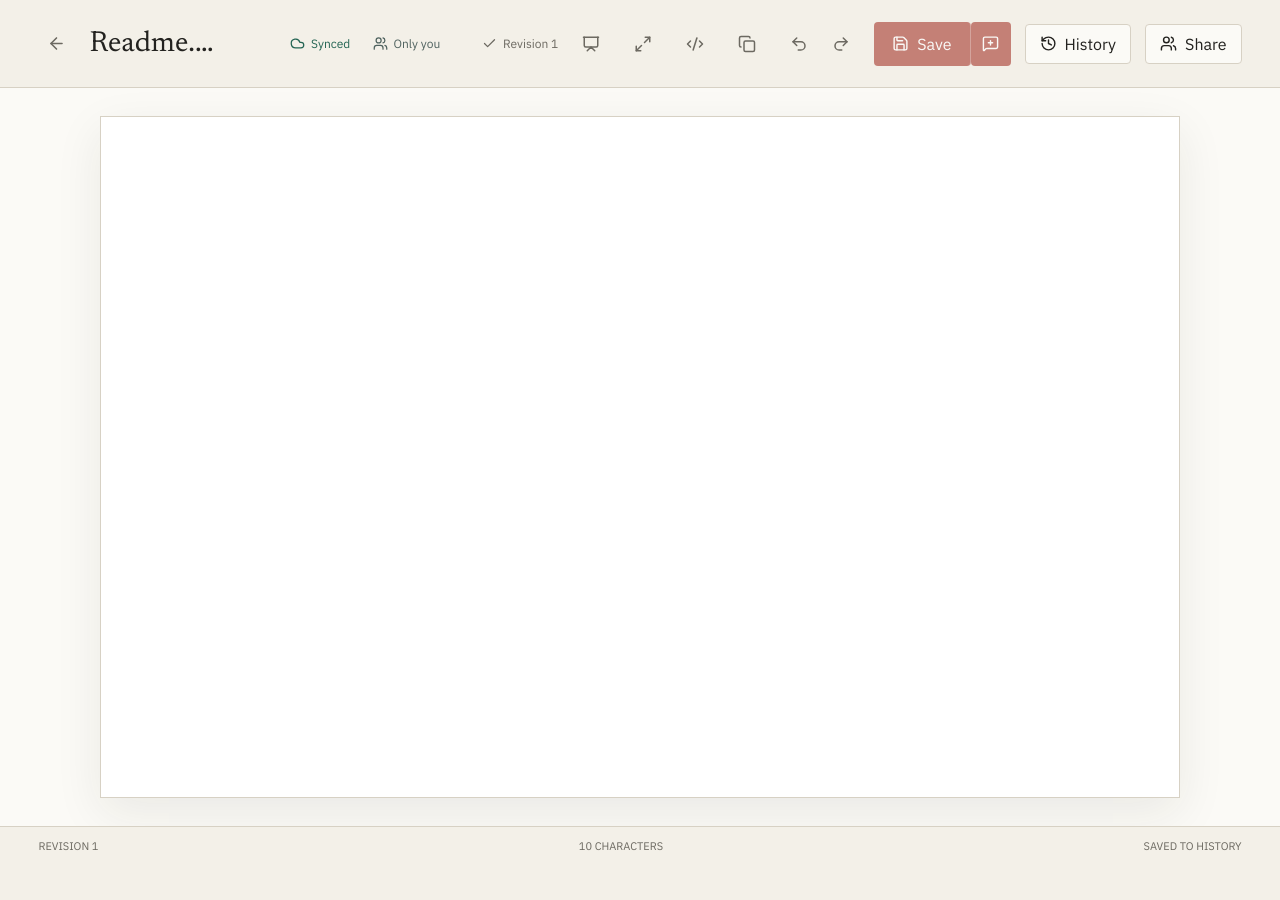
it: DocumentEditor › creates and revokes a read-only public link
Expected: the heading "Readme.md" is shown, [90,29,230,61]
Click the button "Share" at {"x": 1193, "y": 44}, box [1145,24,1242,64]
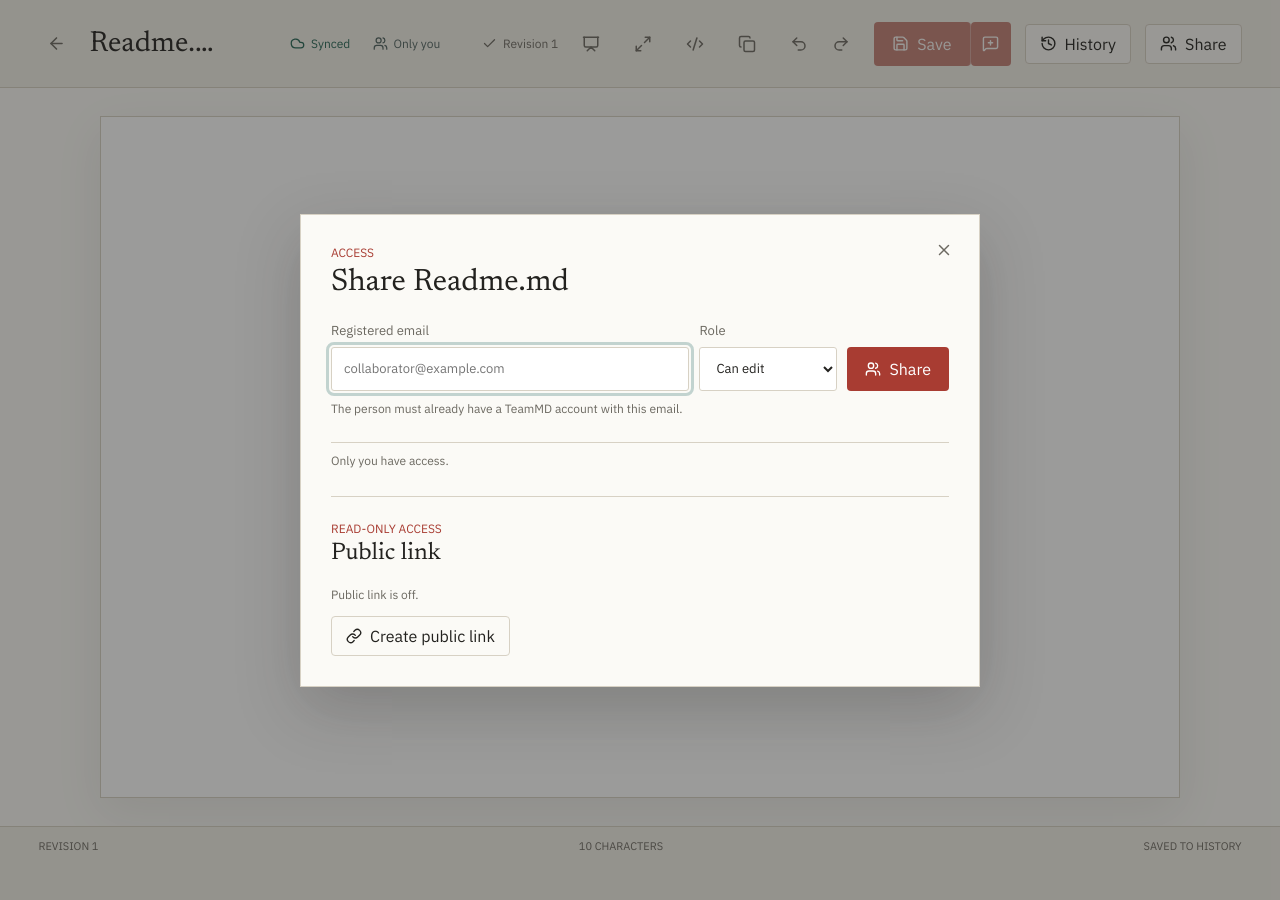
Click the button "Create public link" at {"x": 420, "y": 636}, box [331,616,510,656]
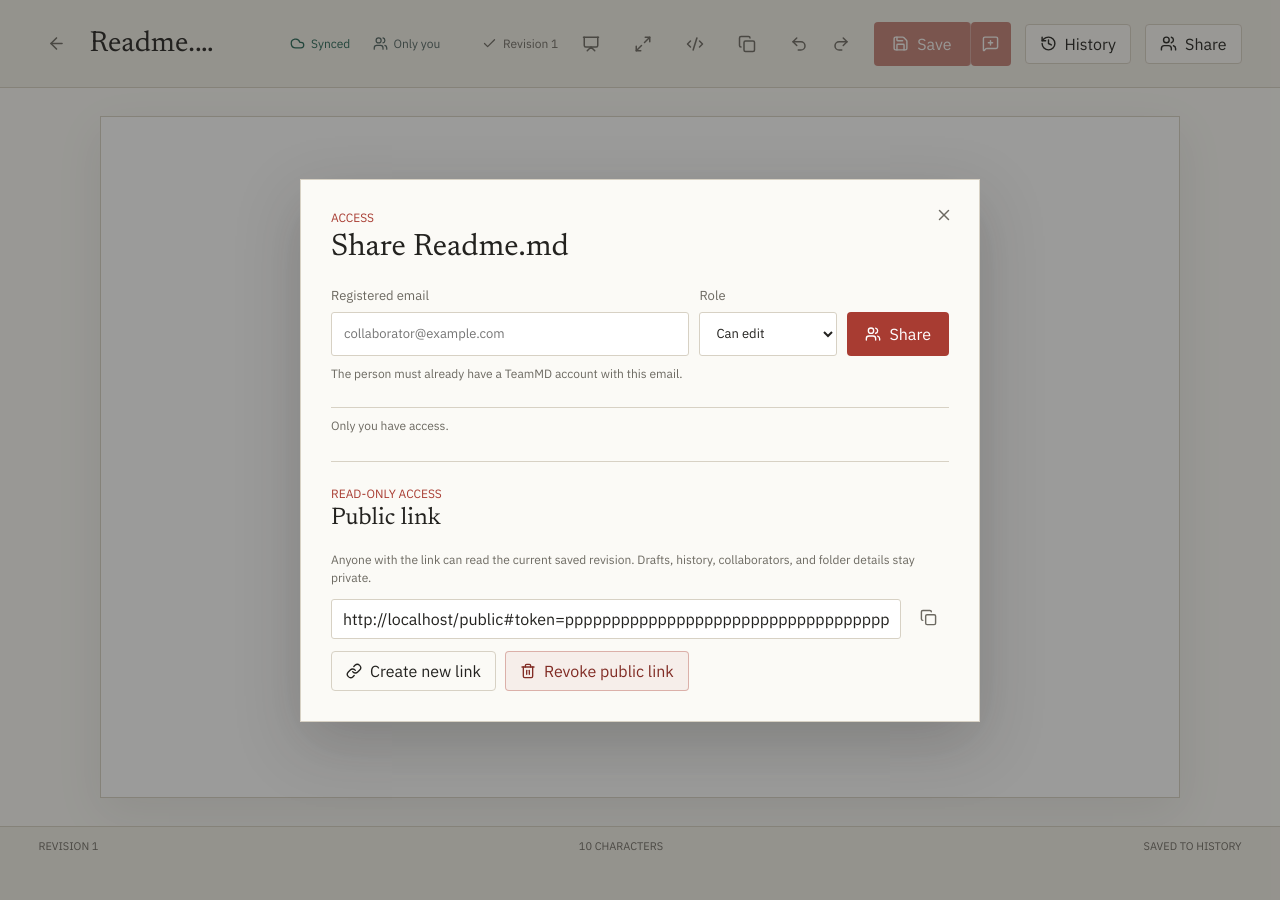
Click the button "Revoke public link" at {"x": 597, "y": 670}, box [505,650,689,690]
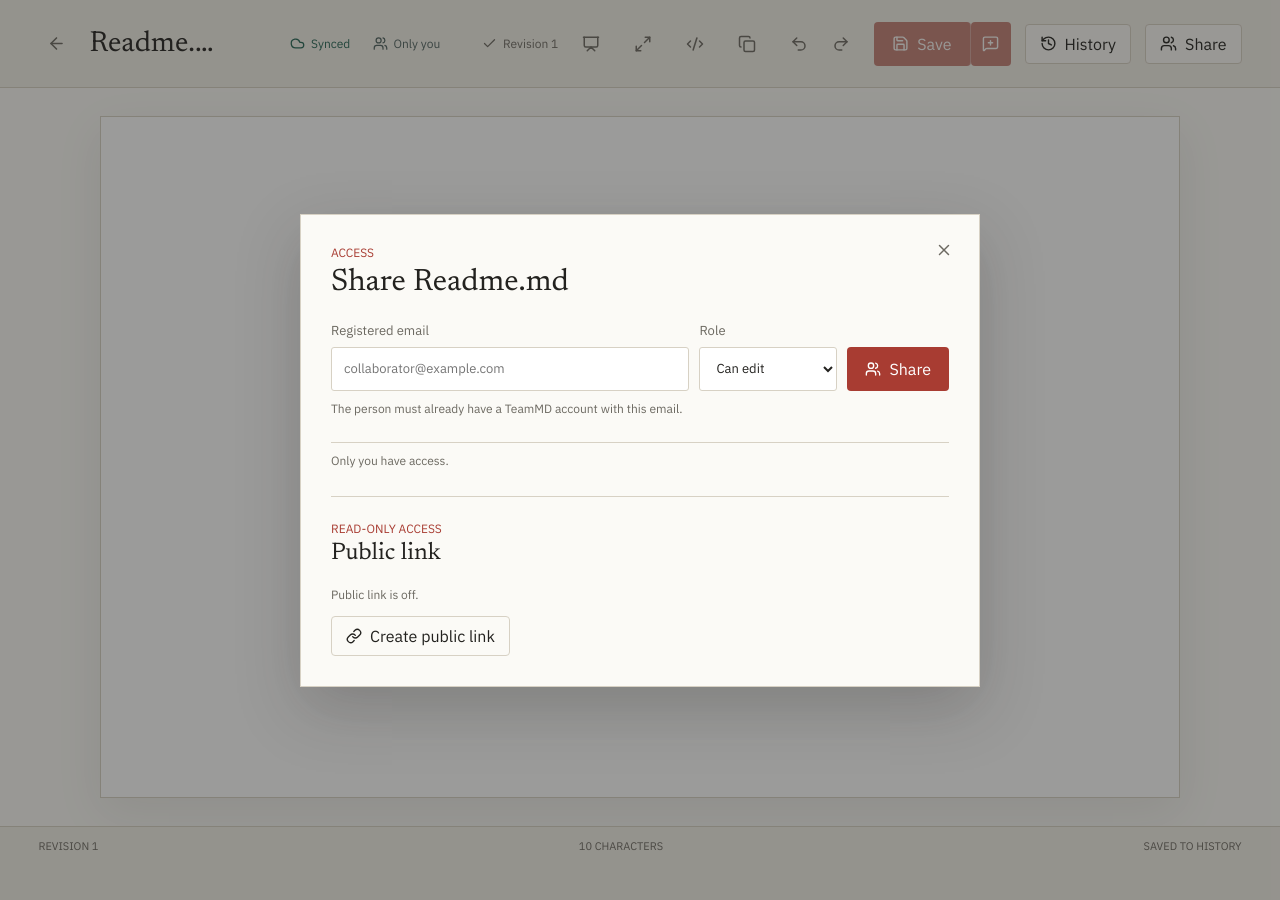
Expected: the text "Public link is off." is shown, [331,586,418,602]
